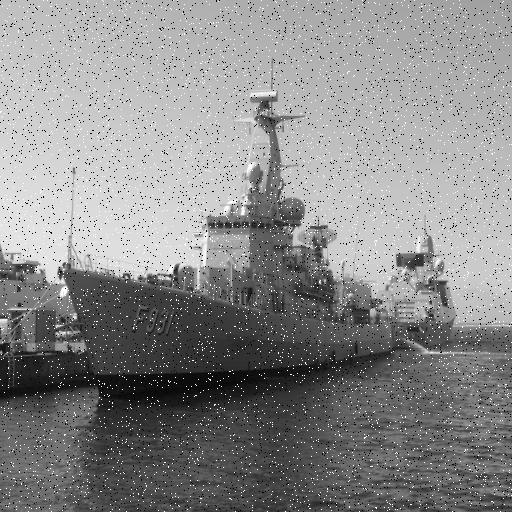Fragata: (61, 90, 405, 406)
